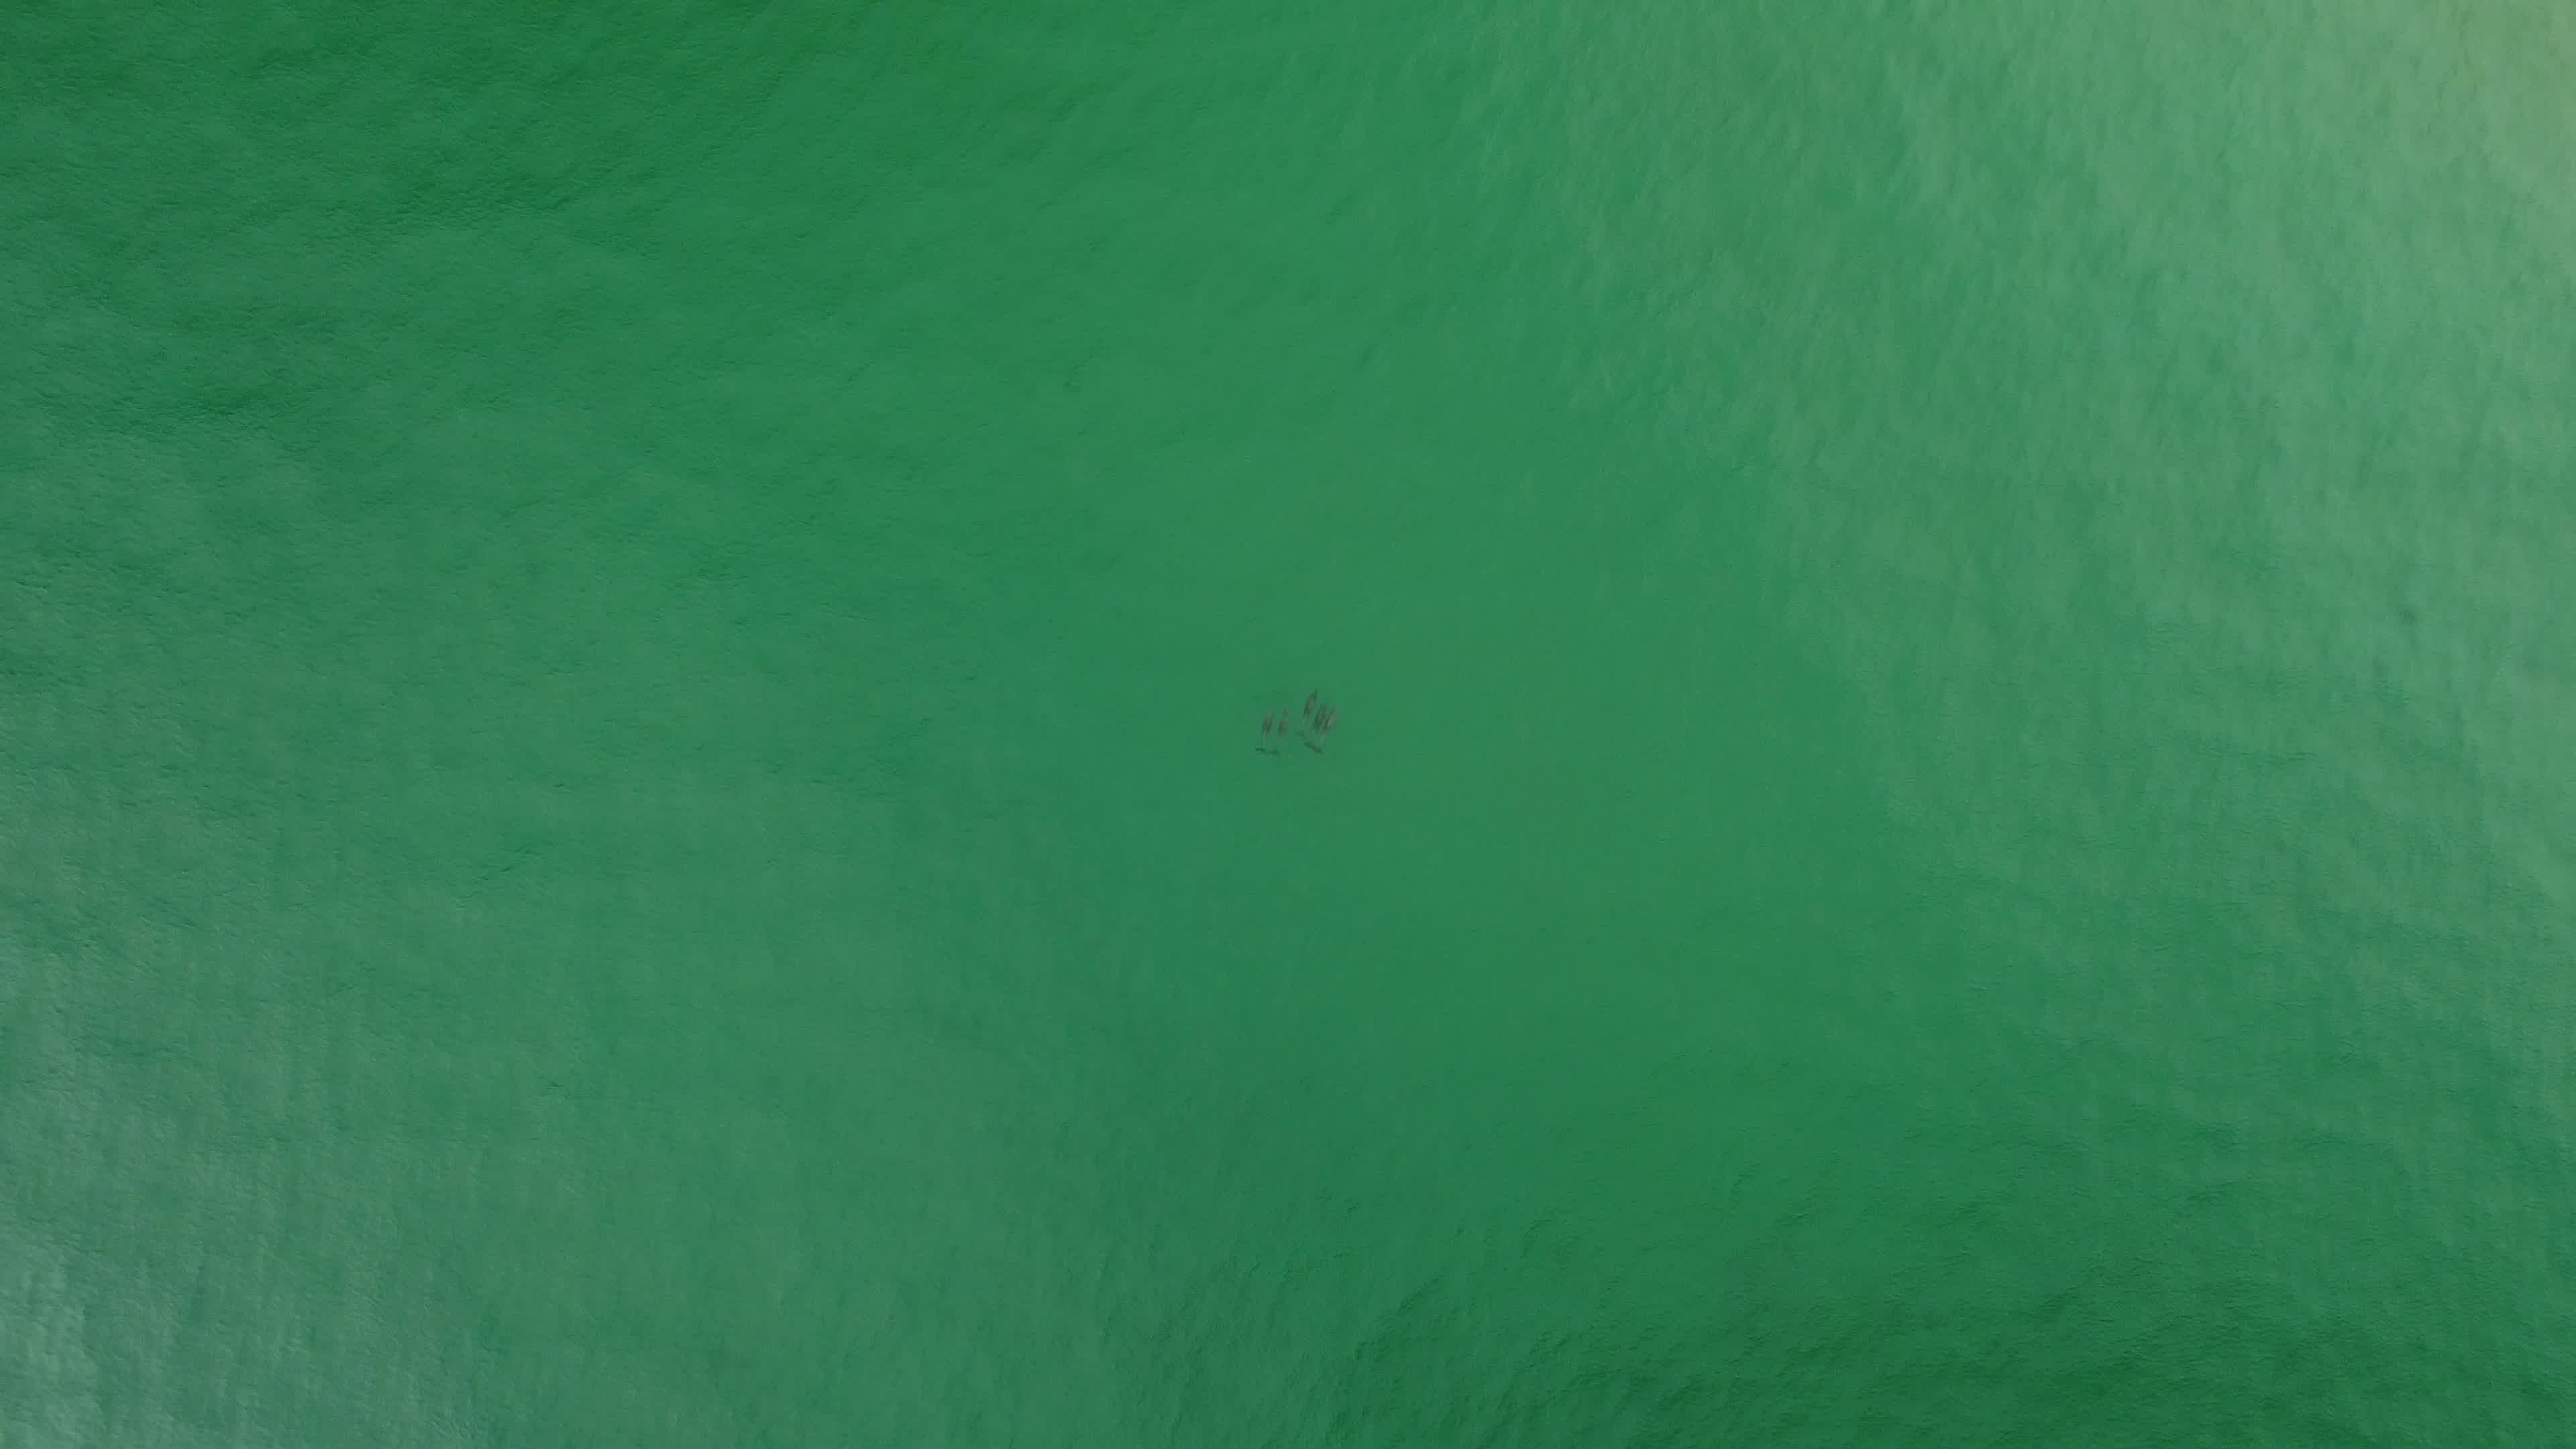dolphin: (1313, 694, 1341, 763), (1274, 699, 1297, 763), (1251, 706, 1277, 759), (1295, 683, 1316, 743)
